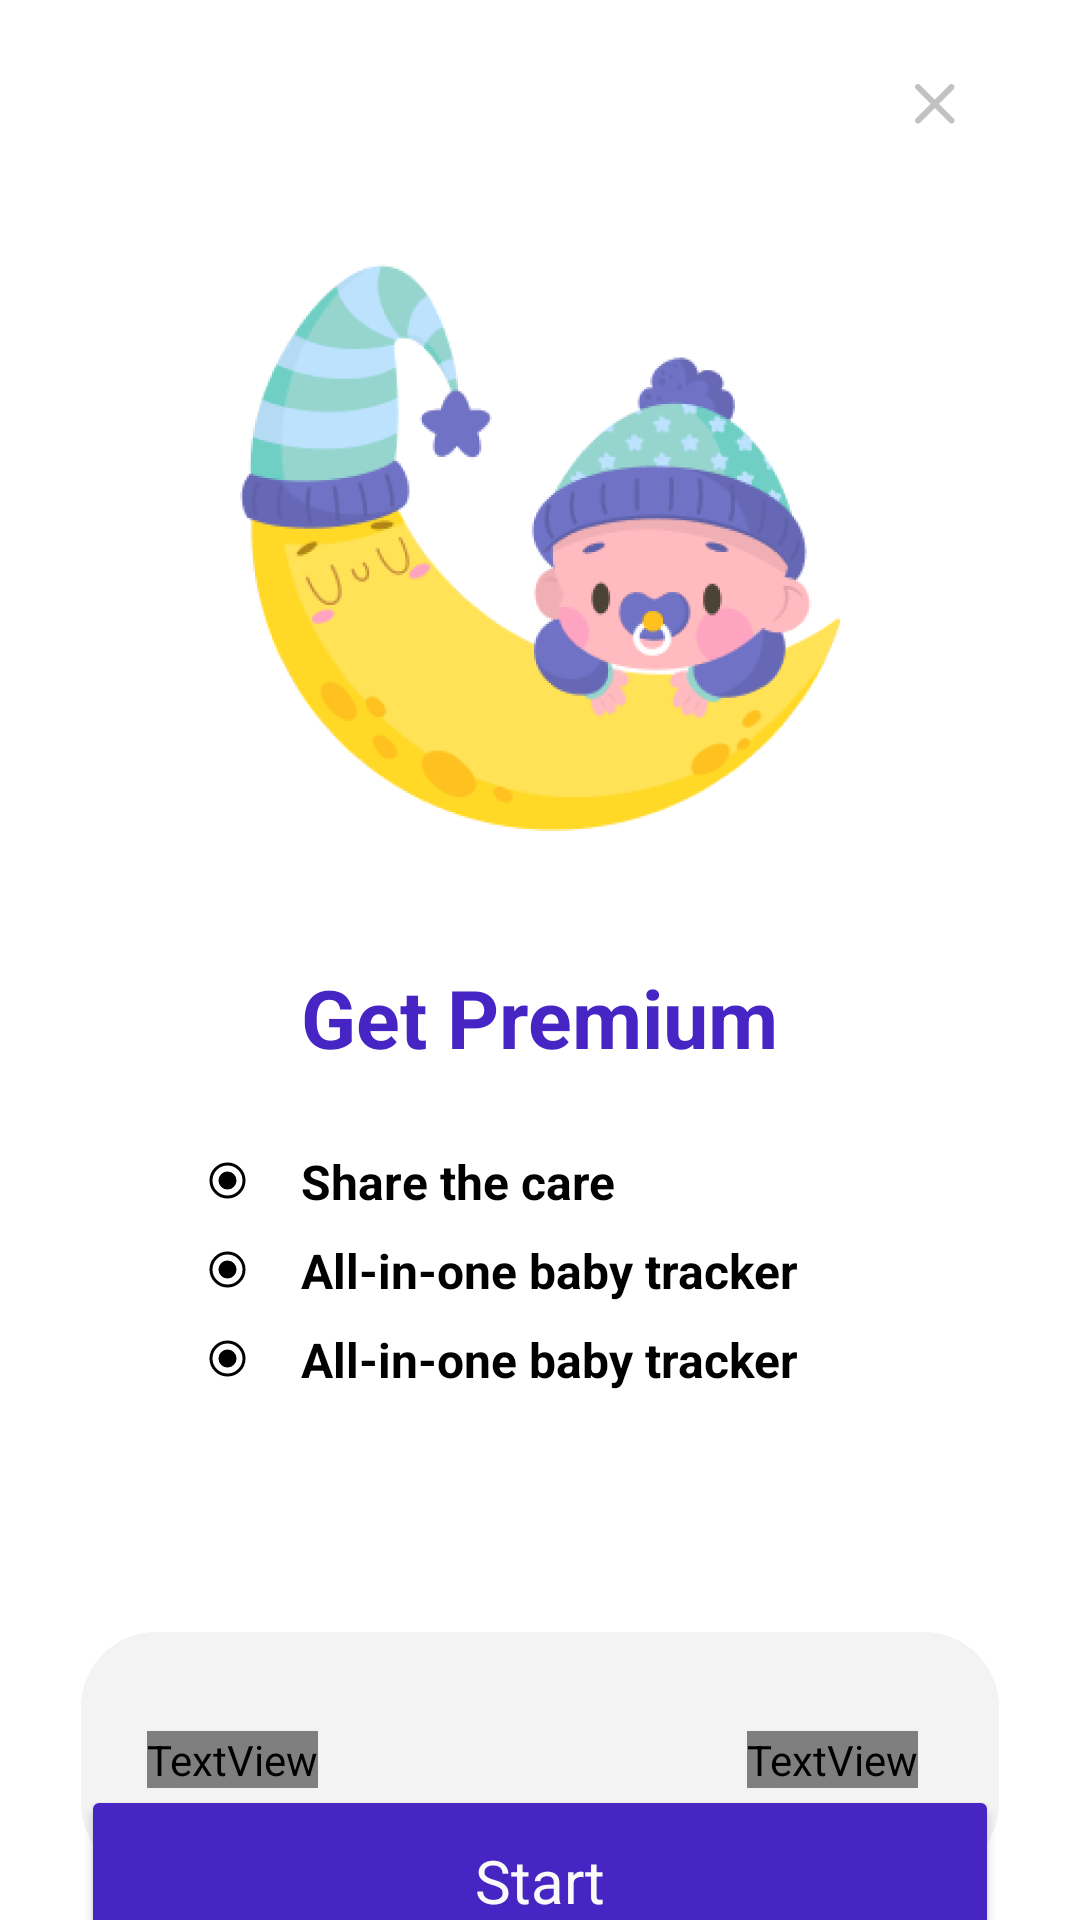

Where to tap for icons on this 1080*1920 app screen, as (x,y):
inapp close: (935,104)
